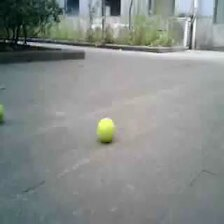tennis: (95, 117, 116, 142)
